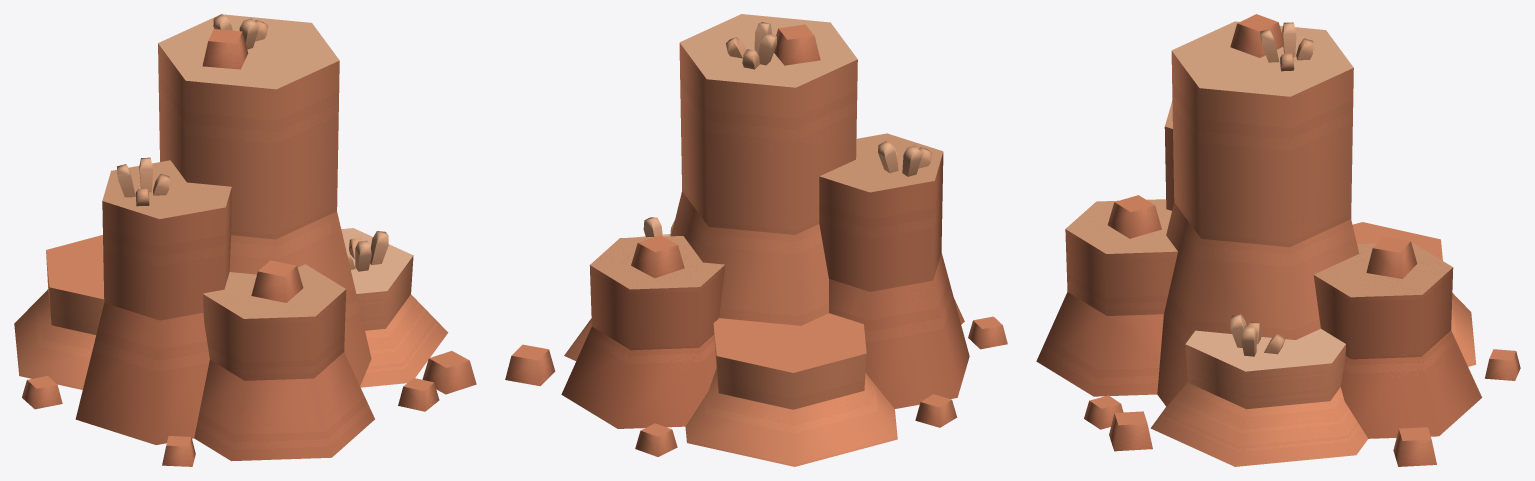
File: rocks-sand-b.glb
3 views of the same model, side by side, from view 1: azimuth 30°, elevation 25°; view 2: azimuth 150°, elevation 25°; view 3: azimuth 270°, elevation 25° (orthographic). The views are drawn at different scales.
Visible parts, largest first — view 1: rocks-sand-b; view 2: rocks-sand-b; view 3: rocks-sand-b.
Boxes of the visible parts, x1,y1,x2,y2 form: rocks-sand-b: (14,14,476,466); rocks-sand-b: (505,14,1007,466); rocks-sand-b: (1036,14,1520,466).
Size of the model in its own units: 4.38 by 3.71 by 4.71.
Materials: 1 (1 with a texture image).
